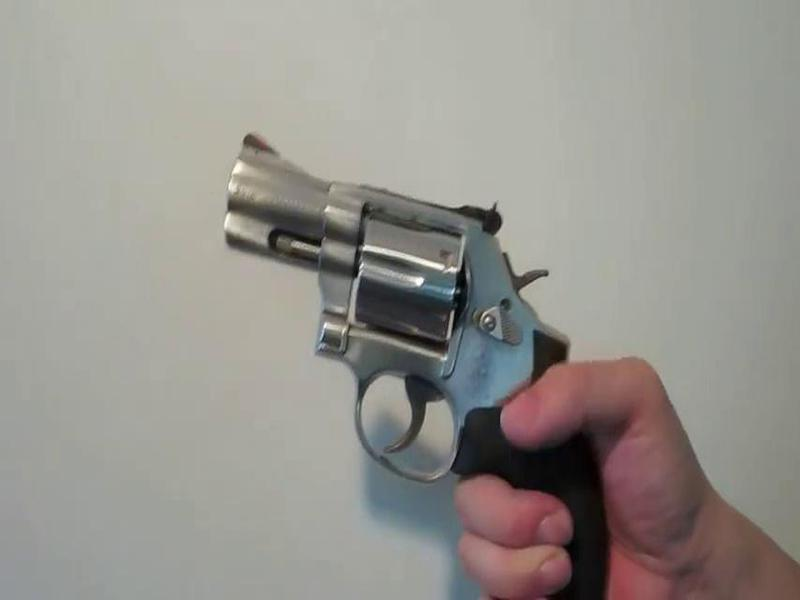Revolver: (187, 102, 604, 538)
